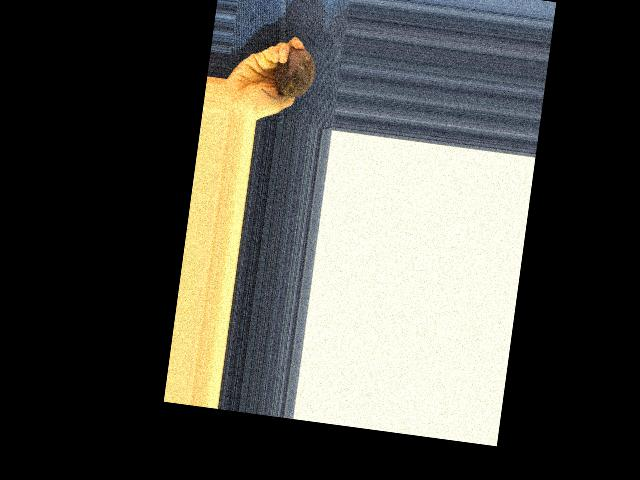beet: (259, 43, 317, 104)
